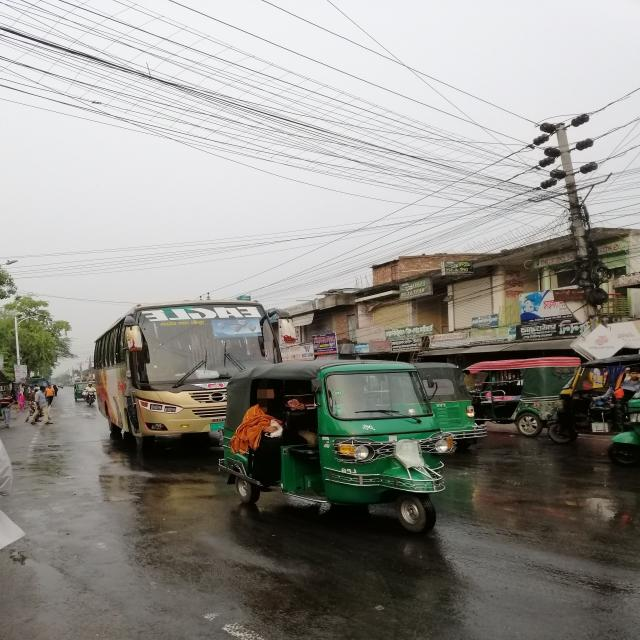Bus: (93, 295, 274, 443)
CNG: (219, 359, 448, 530)
Easybike: (452, 355, 575, 435)
